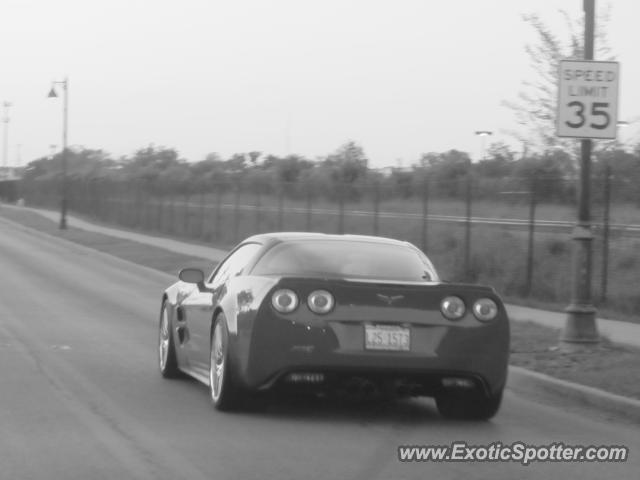car: (156, 228, 515, 423)
